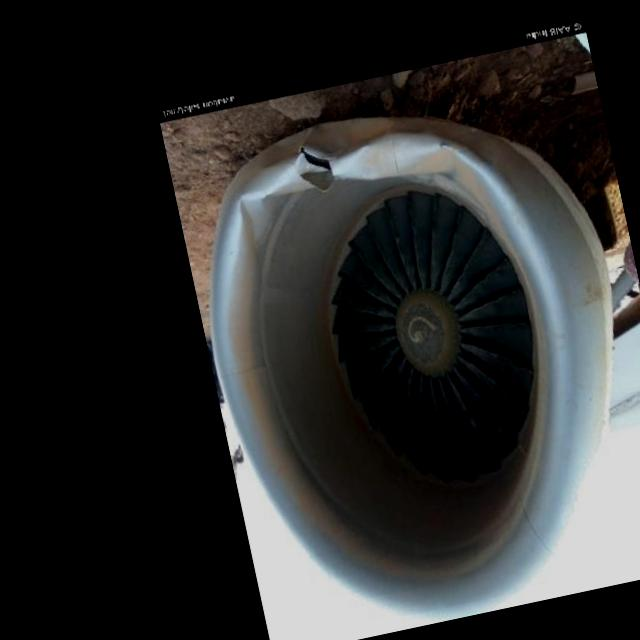crack: (298, 139, 332, 181)
dent: (337, 126, 443, 184), (230, 185, 280, 248)
